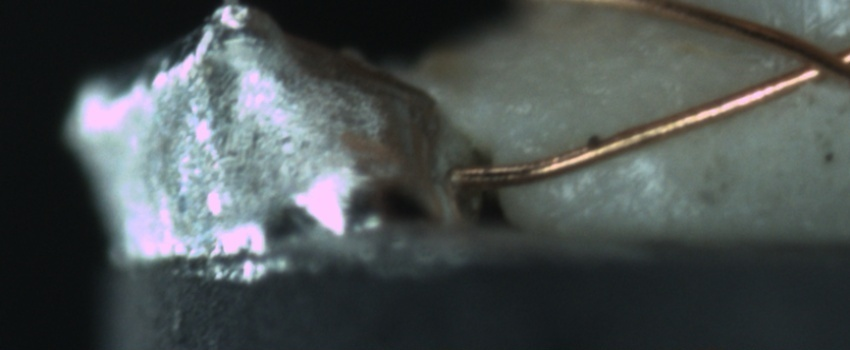CL: (774, 28, 848, 90)
